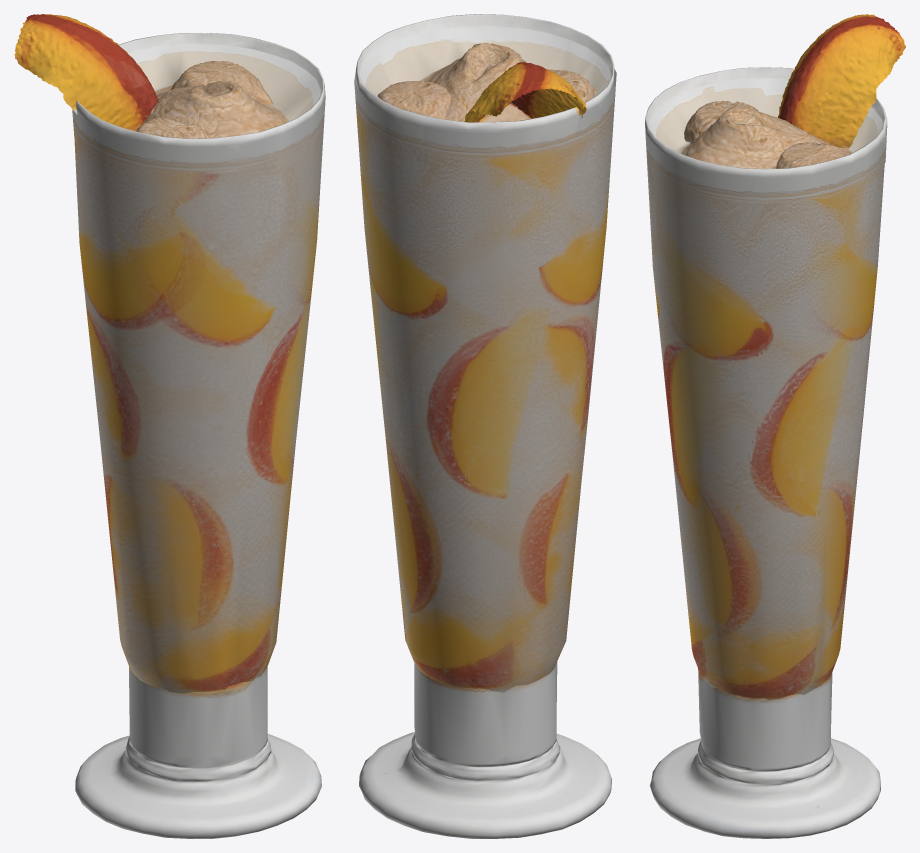
The model's file is soda_durazno.fbx.
3 renders of one model, left to right at view 1: azimuth 30°, elevation 25°; view 2: azimuth 150°, elevation 25°; view 3: azimuth 270°, elevation 25°, orthographic. The views are drawn at different scales.
Visible parts, largest first — view 1: meshes[0]; view 2: meshes[0]; view 3: meshes[0].
Part boxes in pixels (<box>): meshes[0]: <box>14,14,325,838</box>; meshes[0]: <box>354,14,616,838</box>; meshes[0]: <box>645,14,905,838</box>.
Size of the model in its own units: 34.57 by 99.8 by 32.62.
1 material, 1 textured.
